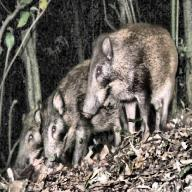boar: (78, 16, 192, 145), (17, 72, 143, 170), (0, 90, 49, 176)
